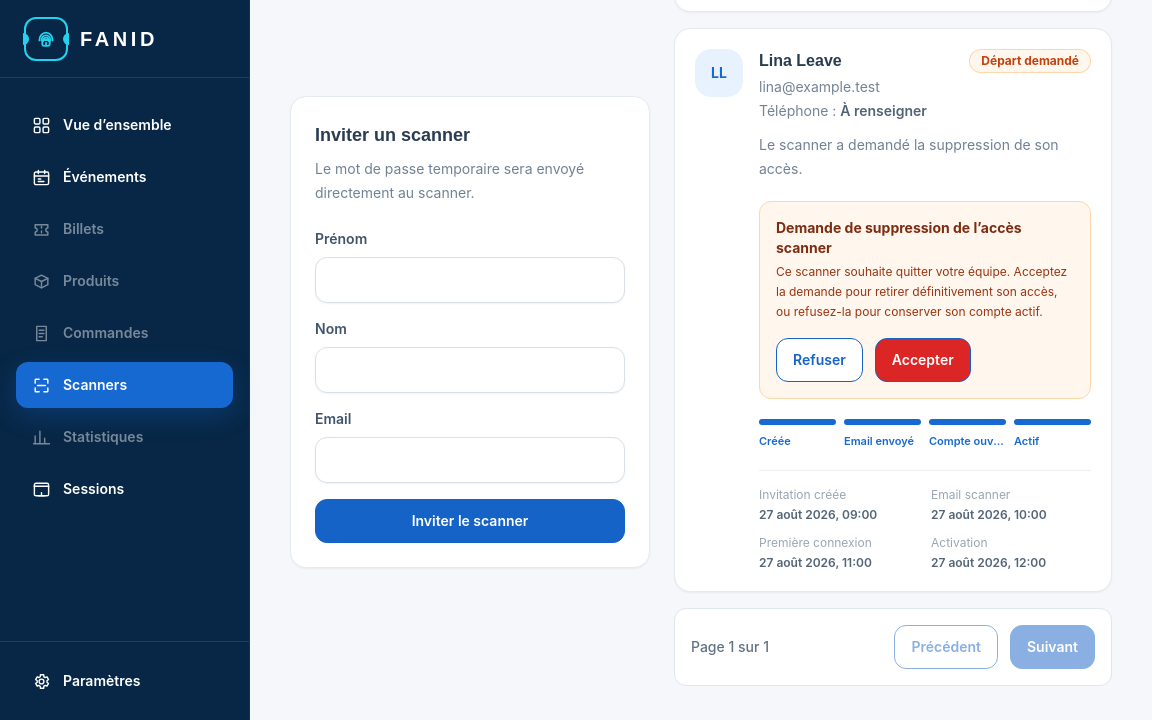
Test: OrganizerScannersPage - OTP actions sensibles › refuse le départ directement sans créer de challenge OTP
(page scrolled)
Click the button "Refuser" at [819, 360], box top-left (776, 338), bottom-right (863, 382)
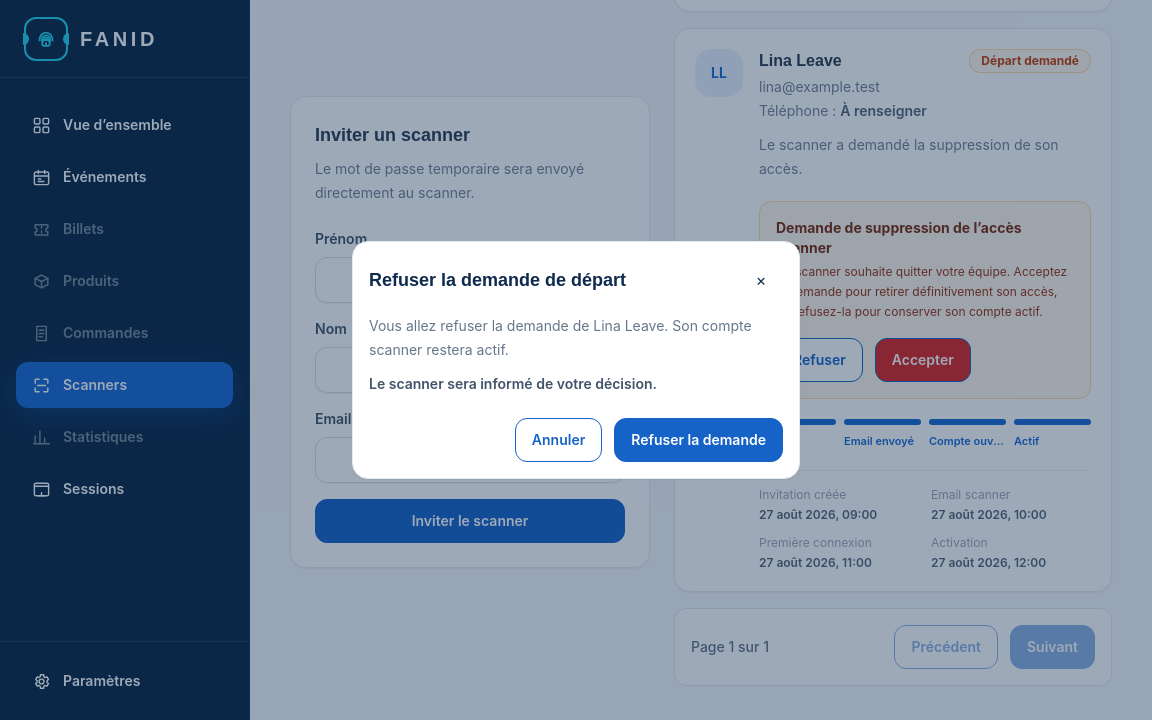
Expected: the dialog "Refuser la demande de départ" is shown
Click the button "Refuser la demande" at [699, 440], box top-left (614, 418), bottom-right (783, 462)
(page scrolled)
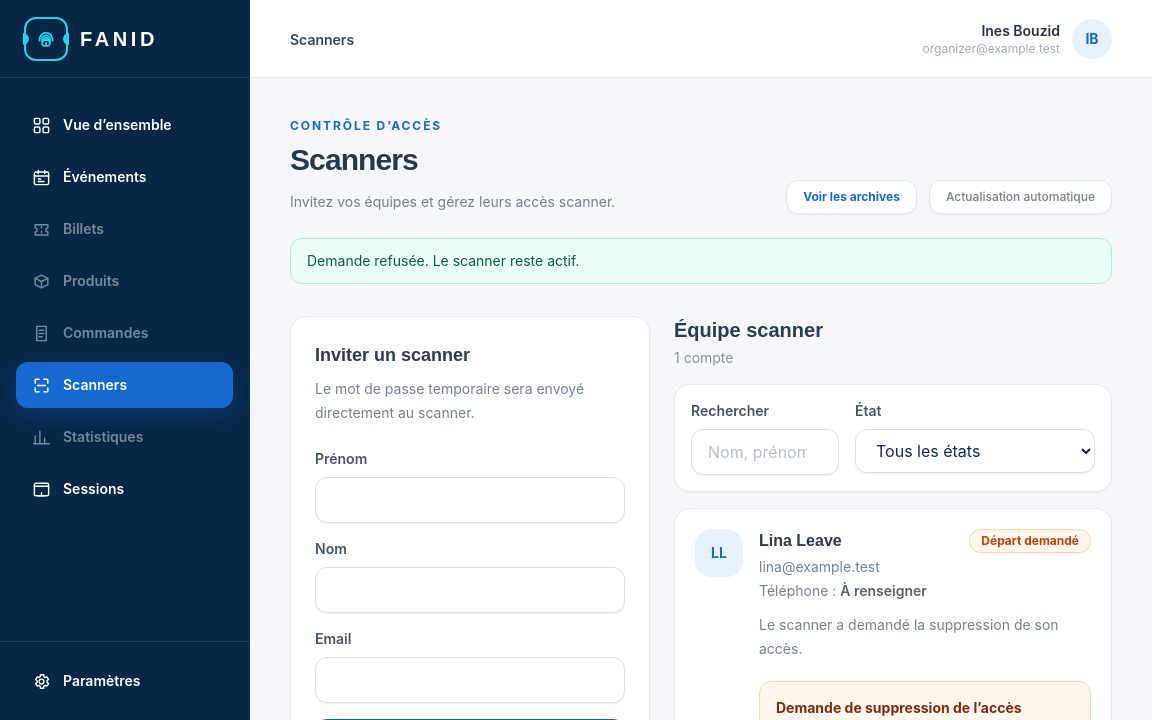
Expected: the text "Demande refusée. Le scanner reste actif." is shown, top-left (290, 238), bottom-right (1112, 284)
Expected: the heading "Refuser la demande de départ" is gone
